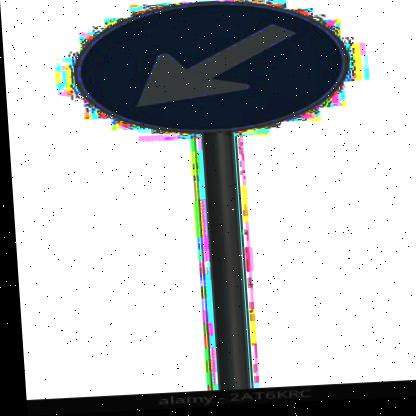Keep left: (66, 0, 364, 141)
